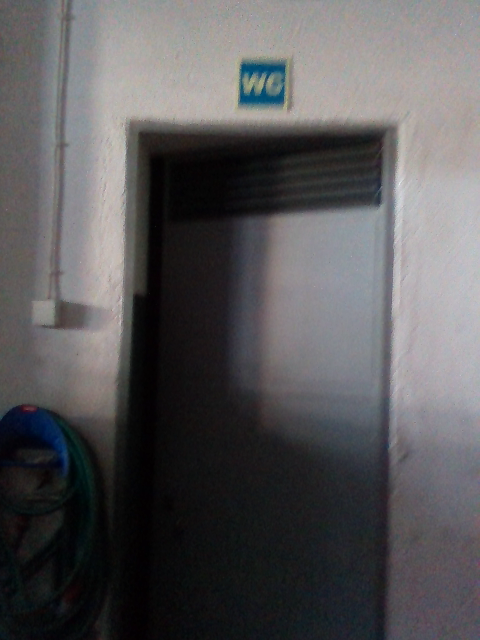closed: (109, 122, 397, 632)
